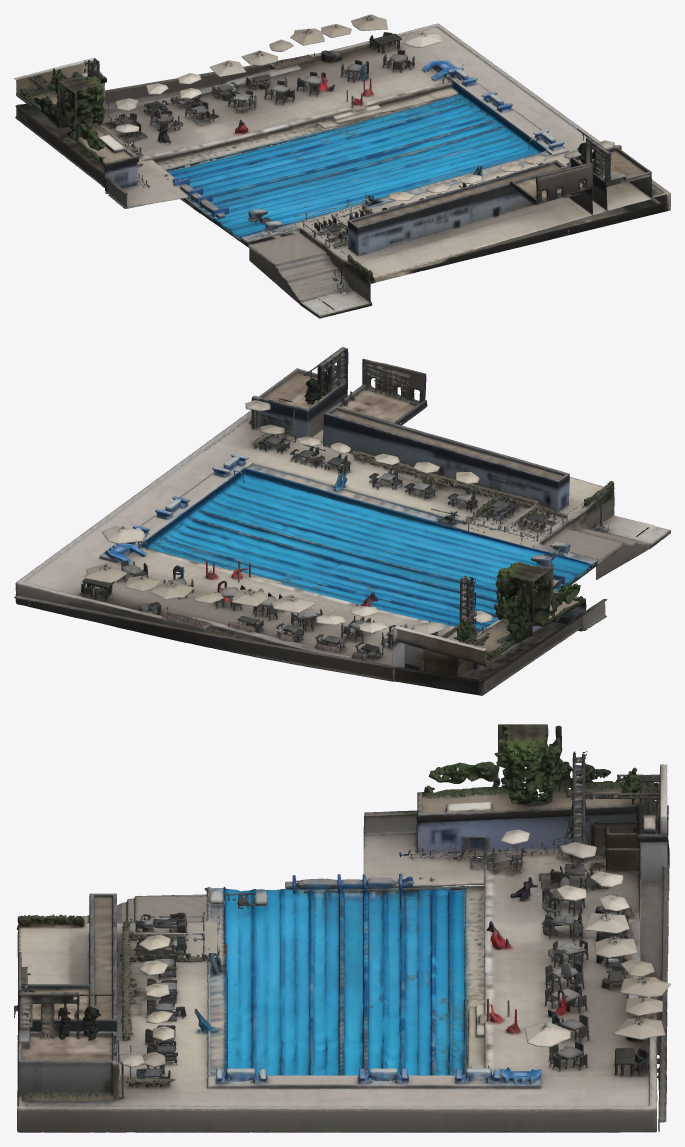
File: city-club-5.glb
3 renders of one model, top to bottom at view 1: azimuth 30°, elevation 25°; view 2: azimuth 150°, elevation 25°; view 3: azimuth 270°, elevation 25°, orthographic. The views are drawn at different scales.
Size of the model in its own units: 1 by 0.2848 by 0.9832.
Materials: 1 (1 with a texture image).
